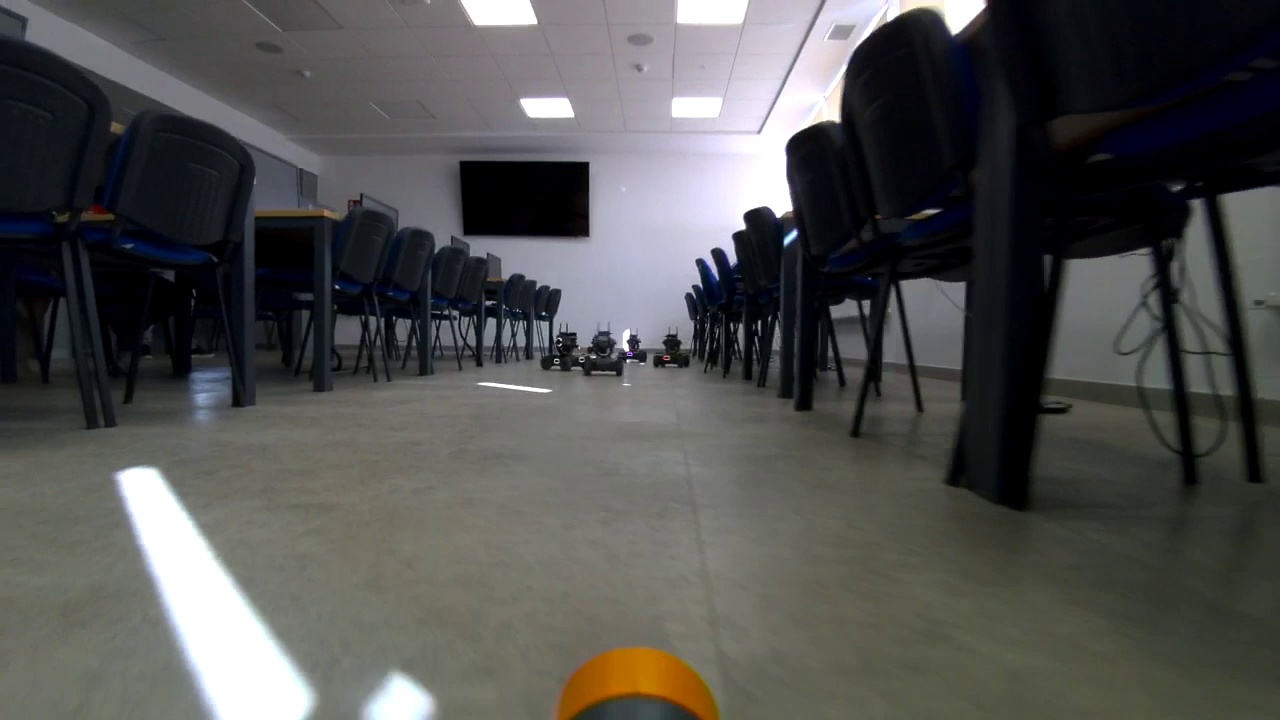robot: (583, 326, 629, 381), (539, 328, 579, 369), (652, 328, 689, 369), (624, 332, 647, 364)
